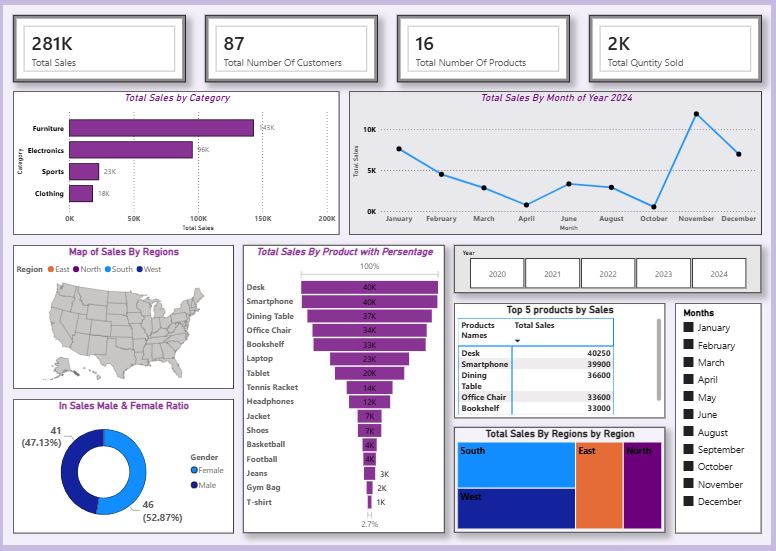

The dashboard page shown, as its layout file describes it:
{"tool":"powerbi","page":{"name":"AMIT_DASHBORD","canvas":[1280,900],"ordinal":0},"visuals":[{"type":"cardVisual","fields":{"Data":["JF_DATA.Total Sales"]},"box":[16,16,288,112],"z":0,"group":"g1"},{"type":"clusteredBarChart","title":"Total Sales by Category","fields":{"Y":["Sum(JF_DATA.TOTAL_SALES)"],"Category":["JF_DATA.category"]},"box":[16,144,544,240],"z":0},{"type":"cardVisual","fields":{"Data":["JF_DATA.Total Number Of Customers"]},"box":[336,16,288,112],"z":1000,"group":"g1"},{"type":"shapeMap","title":"Map of Sales By Regions","fields":{"Series":["JF_DATA.region"],"Value":["Sum(JF_DATA.TOTAL_SALES)"]},"box":[16,400,368,240],"z":1000},{"type":"cardVisual","fields":{"Data":["JF_DATA.Total Number Of Products"]},"box":[656,16,288,112],"z":2000,"group":"g1"},{"type":"lineChart","title":"Total Sales By Month of Year 2024","fields":{"Y":["Sum(JF_DATA.TOTAL_SALES)"],"Category":["JF_DATA.join_date.Variation.Date Hierarchy.Month"]},"box":[576,144,688,240],"z":2000},{"type":"cardVisual","fields":{"Data":["JF_DATA.Total Quntity Sold"]},"box":[976,16,288,112],"z":3000,"group":"g1"},{"type":"pivotTable","title":"Top 5 products by Sales","fields":{"Rows":["JF_DATA.product_name"],"Values":["Sum(JF_DATA.TOTAL_SALES)"]},"box":[752,496,352,192],"z":3000},{"type":"donutChart","title":"In Sales Male & Female Ratio","fields":{"Category":["JF_DATA.gender"],"Y":["Count(JF_DATA.customer_id)"]},"box":[16,656,368,224],"z":4000},{"type":"group","id":"g1","title":"Group 1","box":[16,16,1248,112],"z":5000},{"type":"treemap","fields":{"Group":["JF_DATA.region","JF_DATA.category"],"Values":["Sum(JF_DATA.TOTAL_SALES)"]},"box":[752,704,352,176],"z":6000},{"type":"slicer","fields":{"Values":["JF_DATA.join_date.Variation.Date Hierarchy.Year"]},"box":[752,400,512,80],"z":7000},{"type":"funnel","title":"Total Sales By Product with Persentage","fields":{"Y":["Sum(JF_DATA.TOTAL_SALES)"],"Category":["JF_DATA.product_name"]},"box":[400,400,336,480],"z":8000},{"type":"slicer","fields":{"Values":["JF_DATA.join_date.Variation.Date Hierarchy.Month"]},"box":[1120,496,144,384],"z":9000}]}

Visuals, with their boxes in screenshot pixels (x1, y1, x2, y2), scaled from the page's 1280x900 canvas onto the 776x551 screenshot:
cardVisual - JF_DATA.Total Sales: region(10, 10, 184, 78)
"Total Sales by Category" clusteredBarChart: region(10, 88, 340, 235)
cardVisual - JF_DATA.Total Number Of Customers: region(204, 10, 378, 78)
"Map of Sales By Regions" shapeMap: region(10, 245, 233, 392)
cardVisual - JF_DATA.Total Number Of Products: region(398, 10, 572, 78)
"Total Sales By Month of Year 2024" lineChart: region(349, 88, 766, 235)
cardVisual - JF_DATA.Total Quntity Sold: region(592, 10, 766, 78)
"Top 5 products by Sales" pivotTable: region(456, 304, 669, 421)
"In Sales Male & Female Ratio" donutChart: region(10, 402, 233, 539)
"Group 1" group: region(10, 10, 766, 78)
treemap - JF_DATA.region x JF_DATA.category: region(456, 431, 669, 539)
slicer - JF_DATA.join_date.Variation.Date Hierarchy.Year: region(456, 245, 766, 294)
"Total Sales By Product with Persentage" funnel: region(242, 245, 446, 539)
slicer - JF_DATA.join_date.Variation.Date Hierarchy.Month: region(679, 304, 766, 539)
